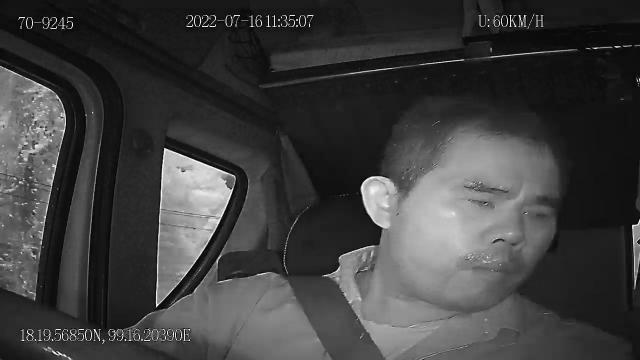SafeDriving: (454, 185, 508, 214), (515, 200, 560, 228)
Seatbelt: (286, 272, 394, 360)
